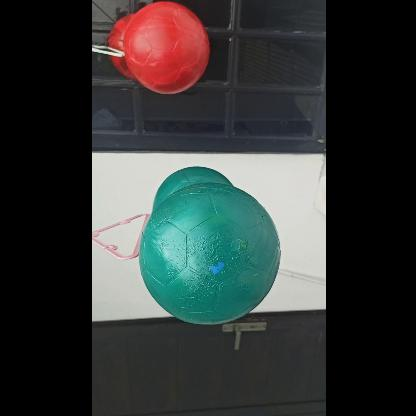red_ball: (125, 4, 211, 90)
